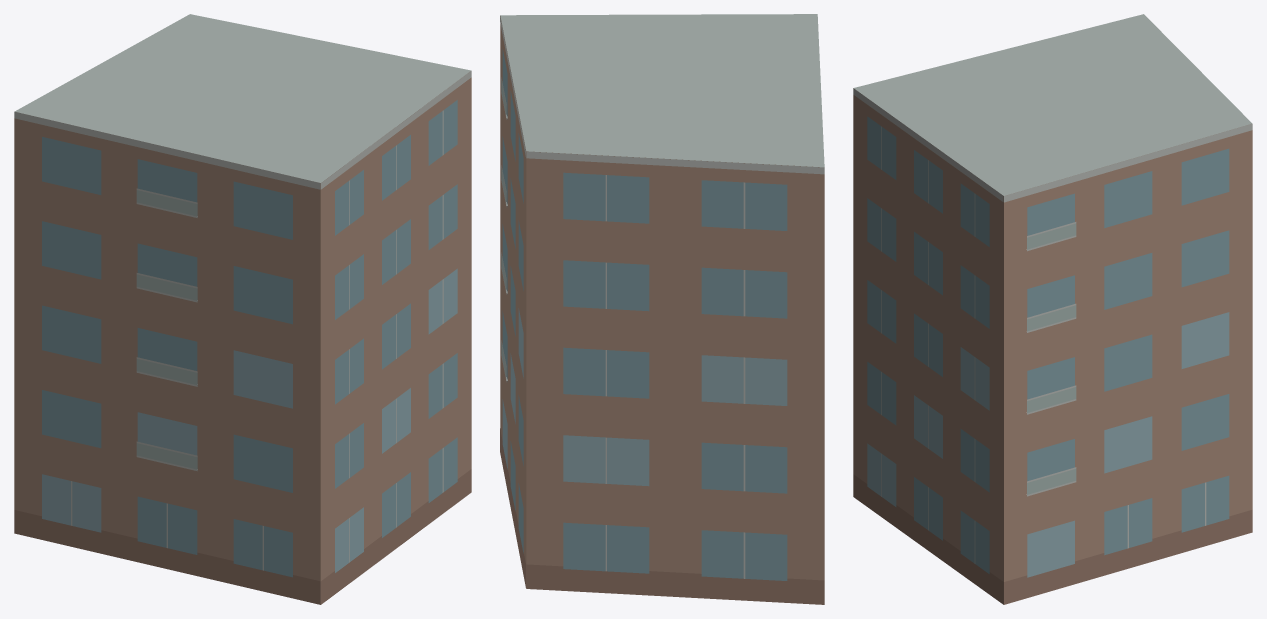
File: residential-37db43c9-2c1e-47b2-a1ef-a117da6639ea.glb
3 views of the same model, side by side, from view 1: azimuth 30°, elevation 25°; view 2: azimuth 150°, elevation 25°; view 3: azimuth 270°, elevation 25° (orthographic). The views are drawn at different scales.
Visible parts, largest first — view 1: residential-37db43c9-2c1e-47b2-a1ef-a117da6639ea.tmp; view 2: residential-37db43c9-2c1e-47b2-a1ef-a117da6639ea.tmp; view 3: residential-37db43c9-2c1e-47b2-a1ef-a117da6639ea.tmp.
Part boxes in pixels (x1,y1,x2,y2): residential-37db43c9-2c1e-47b2-a1ef-a117da6639ea.tmp: (14,14,471,604); residential-37db43c9-2c1e-47b2-a1ef-a117da6639ea.tmp: (500,14,824,604); residential-37db43c9-2c1e-47b2-a1ef-a117da6639ea.tmp: (853,14,1252,604).
Size of the model in its own units: 14.57 by 15.25 by 13.5.
